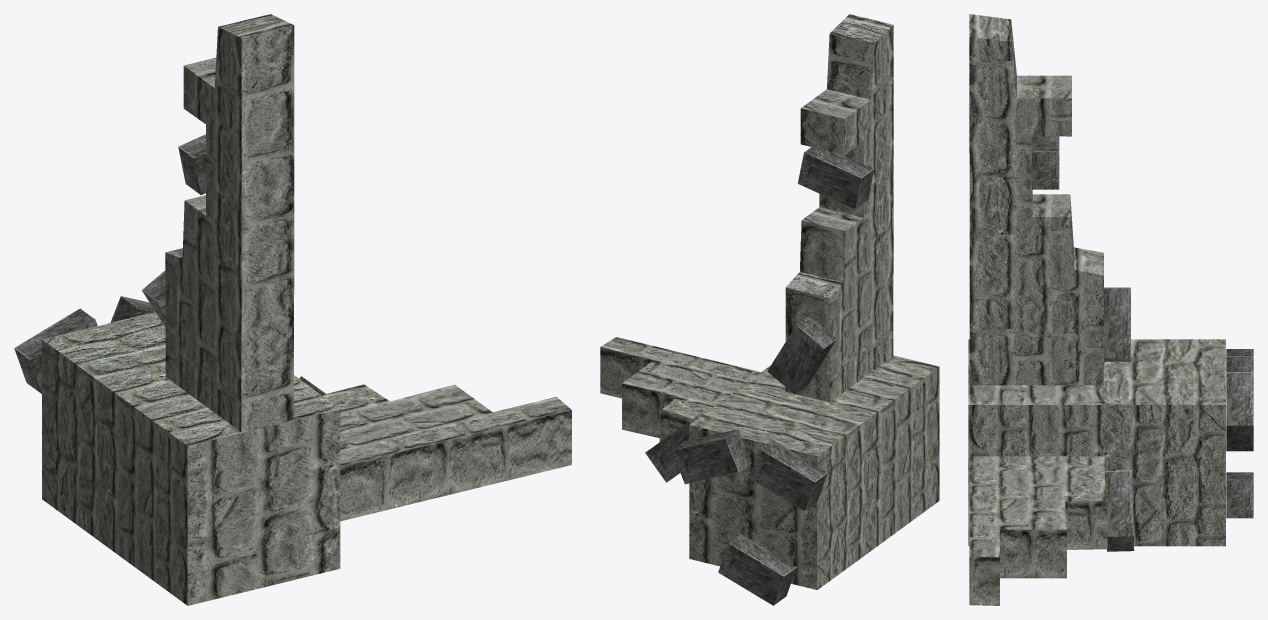
Rendered from fundation_ruin.dae.
The picture shows the model from 3 angles, left to right: view 1: azimuth 30°, elevation 25°; view 2: azimuth 150°, elevation 25°; view 3: azimuth 270°, elevation 25°; orthographic projection. The views are drawn at different scales.
Visible parts, largest first — view 1: fundation_ruin; view 2: fundation_ruin; view 3: fundation_ruin.
Boxes of the visible parts, x1=… form: fundation_ruin: x1=14, y1=14, x2=571, y2=605; fundation_ruin: x1=600, y1=14, x2=939, y2=605; fundation_ruin: x1=968, y1=14, x2=1253, y2=605.
Bounding box in the file's own units: 5.36 × 3.75 × 7.33.
